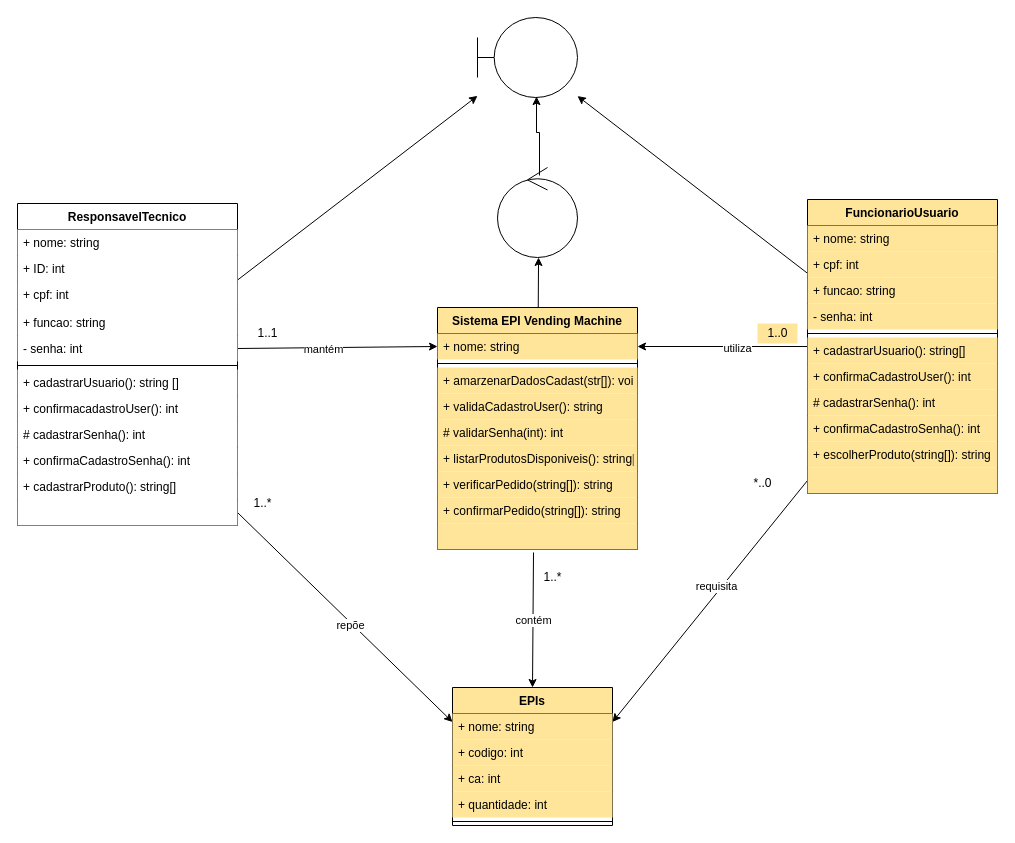
The diagram is 1015 pixels wide and 843 high, and some of its shapes have lost their labels. The shapes that lost their labels are listed below. From the top down, each one's centre as x and y in pixels, then its label:
the point at 527,57: Interface_Epi Vending Machine
the point at 537,212: Control_Epi Vending Machine
the point at 902,480: + confirmarPedido(string[]):int
the point at 127,512: + confirmarCadastroProd(string[]): int
the point at 537,536: + liberarRetirada(): int
